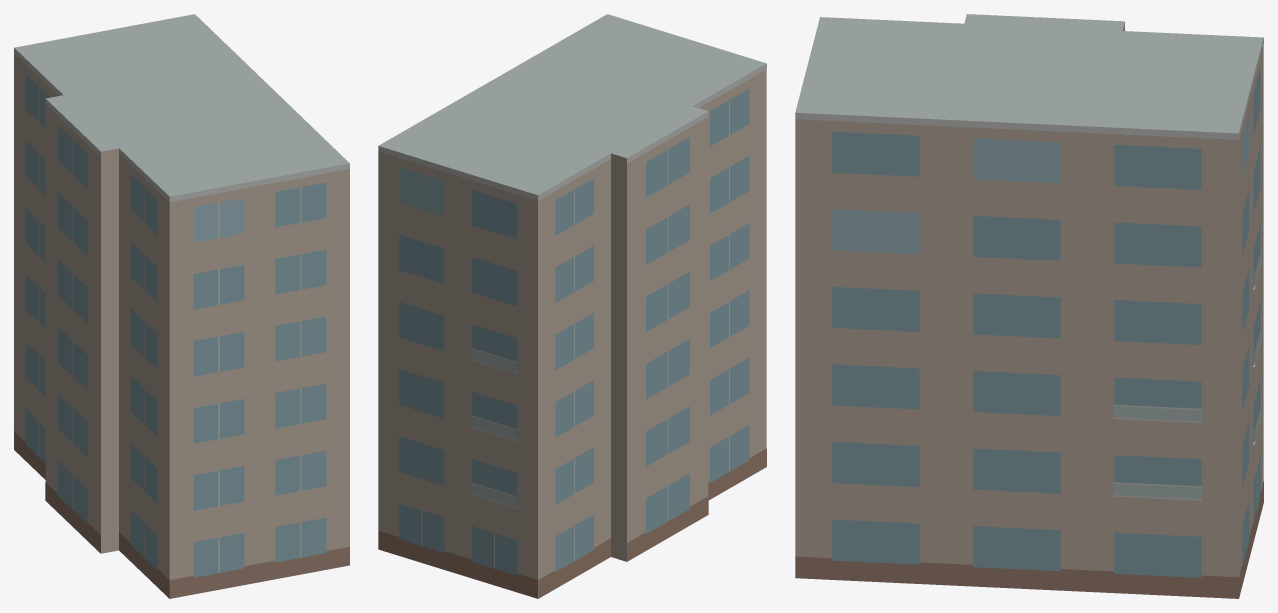
The model's file is survey-upis-32997539.glb.
3 renders of one model, left to right at view 1: azimuth 30°, elevation 25°; view 2: azimuth 150°, elevation 25°; view 3: azimuth 270°, elevation 25°, orthographic. The views are drawn at different scales.
Parts seen in each view (by area): view 1: survey-upis-32997539.tmp; view 2: survey-upis-32997539.tmp; view 3: survey-upis-32997539.tmp.
Part boxes in pixels (x1,y1,x2,y2): survey-upis-32997539.tmp: (14,14,349,598); survey-upis-32997539.tmp: (378,14,766,598); survey-upis-32997539.tmp: (795,14,1263,598).
Bounding box in the file's own units: 9.61 × 17.45 × 15.93.
